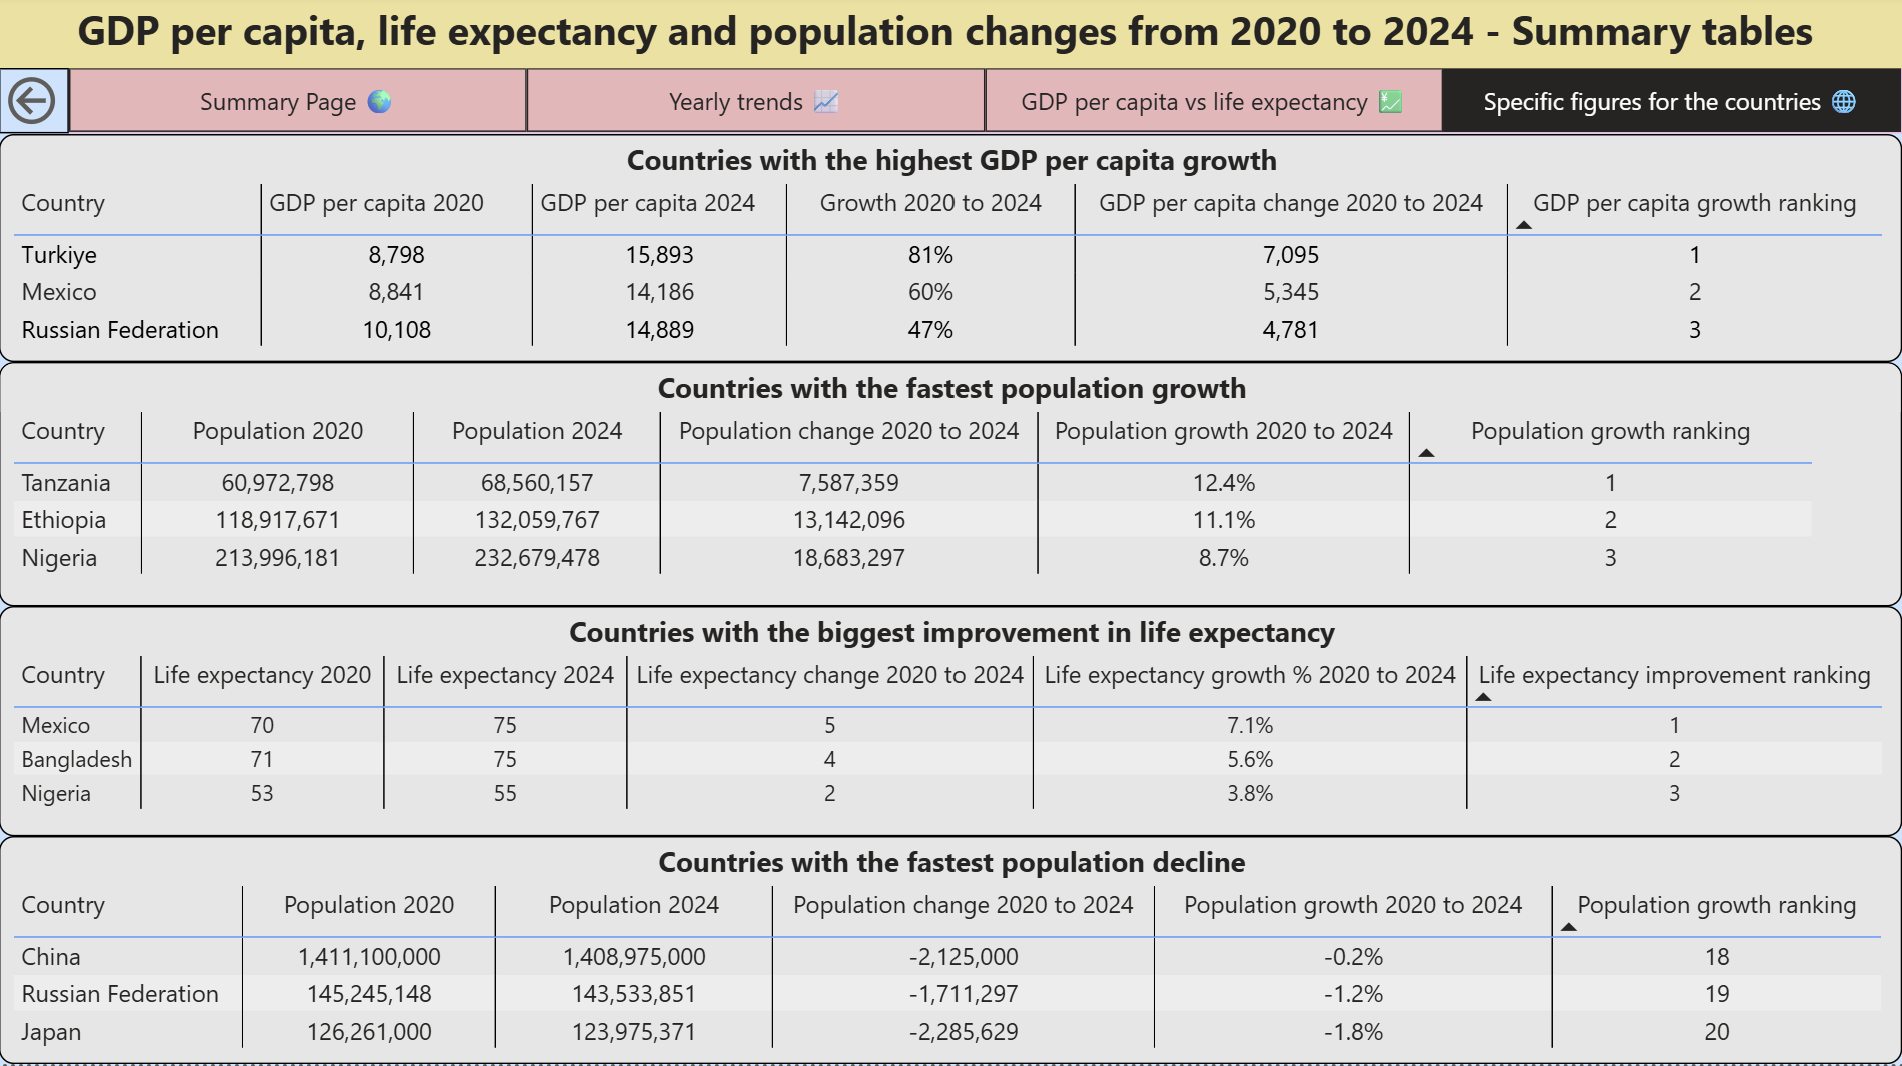

The dashboard page shown, as its layout file describes it:
{"tool":"powerbi","page":{"name":"Specific figures for the countries 🌐 ","canvas":[1280,720],"ordinal":4},"visuals":[{"type":"tableEx","title":"Countries with the highest GDP per capita growth","fields":{"Values":["MARTS_GDP_PER_CAPITA_FINAL.COUNTRY","Sum(MARTS_GDP_PER_CAPITA_FINAL.GDP_PER_CAPITA_2020)","Sum(MARTS_GDP_PER_CAPITA_FINAL.GDP_PER_CAPITA_2024)","Sum(MARTS_GDP_PER_CAPITA_FINAL.GDP per capita change 2020 to 2024)","Sum(MARTS_GDP_PER_CAPITA_FINAL.GDP per capita growth 2020 to 2024)","Sum(MARTS_GDP_PER_CAPITA_FINAL.GDP per capita growth ranking)"]},"box":[0,94,1280,153.5],"z":0},{"type":"tableEx","title":"Countries with the fastest population growth","fields":{"Values":["MARTS_POPULATIONS_FINAL.COUNTRY","Sum(MARTS_POPULATIONS_FINAL.POPULATION_2020)","Sum(MARTS_POPULATIONS_FINAL.POPULATION_2024)","Sum(MARTS_POPULATIONS_FINAL.Population change 2020 to 2024)","Sum(MARTS_POPULATIONS_FINAL.Population growth 2020 to 2024)","Sum(MARTS_POPULATIONS_FINAL.Population growth ranking)"]},"box":[0,247.5,1280,164.5],"z":1000},{"type":"tableEx","title":"Countries with the biggest improvement in life expectancy","fields":{"Values":["MARTS_LIFE_EXPECTANCY_FINAL.COUNTRY","Sum(MARTS_LIFE_EXPECTANCY_FINAL.LIFE_EXPECTANCY_2020)","Sum(MARTS_LIFE_EXPECTANCY_FINAL.LIFE_EXPECTANCY_2024)","Sum(MARTS_LIFE_EXPECTANCY_FINAL.Life expectancy change 2020 to 2024)","Sum(MARTS_LIFE_EXPECTANCY_FINAL.Life expectancy 2020 to 2024)","Sum(MARTS_LIFE_EXPECTANCY_FINAL.Life expectancy improvement ranking)"]},"box":[0,412,1280,155.1],"z":2000},{"type":"tableEx","title":"Countries with the fastest population decline","fields":{"Values":["MARTS_POPULATIONS_FINAL.COUNTRY","Sum(MARTS_POPULATIONS_FINAL.POPULATION_2020)","Sum(MARTS_POPULATIONS_FINAL.POPULATION_2024)","Sum(MARTS_POPULATIONS_FINAL.Population change 2020 to 2024)","Sum(MARTS_POPULATIONS_FINAL.Population growth 2020 to 2024)","Sum(MARTS_POPULATIONS_FINAL.Population growth ranking)"]},"box":[0,567.1,1280,153.5],"z":3000},{"type":"pageNavigator","box":[47,50.1,1233,43.9],"z":4000},{"type":"textbox","box":[0,0,1280,50.1],"z":5000},{"type":"actionButton","box":[0,50.1,47,43.9],"z":6000}]}

Visuals, with their boxes in screenshot pixels (x1, y1, x2, y2), scaled from the page's 1280x720 canvas onto the 1902x1066 screenshot:
"Countries with the highest GDP per capita growth" tableEx: [0,139,1901,366]
"Countries with the fastest population growth" tableEx: [0,366,1901,610]
"Countries with the biggest improvement in life expectancy" tableEx: [0,610,1901,840]
"Countries with the fastest population decline" tableEx: [0,840,1901,1065]
pageNavigator: [70,74,1901,139]
textbox: [0,0,1901,74]
actionButton: [0,74,70,139]
